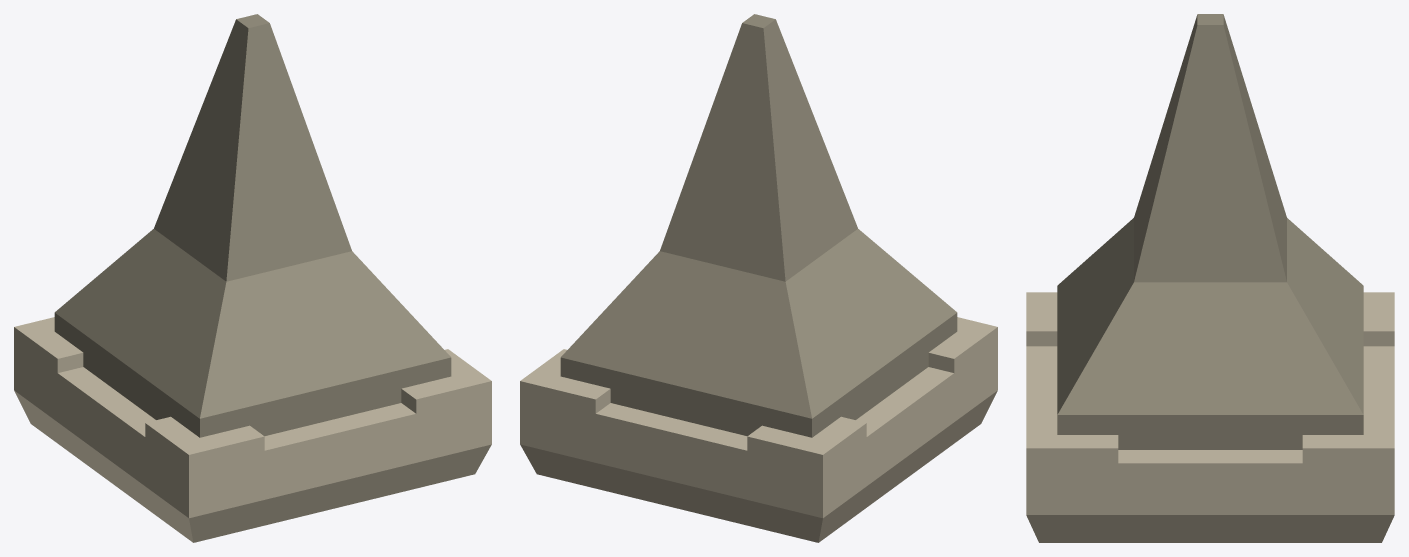
Rendered from towerSquareTopRoofHigh.glb.
3 renders of one model, left to right at view 1: azimuth 30°, elevation 25°; view 2: azimuth 150°, elevation 25°; view 3: azimuth 270°, elevation 25°, orthographic. The views are drawn at different scales.
Parts seen in each view (by area): view 1: mesh_1, mesh_0; view 2: mesh_1, mesh_0; view 3: mesh_1, mesh_0.
Part boxes in pixels (x1,y1,x2,y2): mesh_1: (54, 14, 451, 437); mesh_0: (14, 317, 491, 542); mesh_1: (560, 14, 957, 437); mesh_0: (520, 317, 997, 542); mesh_1: (1057, 14, 1363, 449); mesh_0: (1026, 292, 1394, 542).
Bounding box in the file's own units: 10 × 13.5 × 10.
